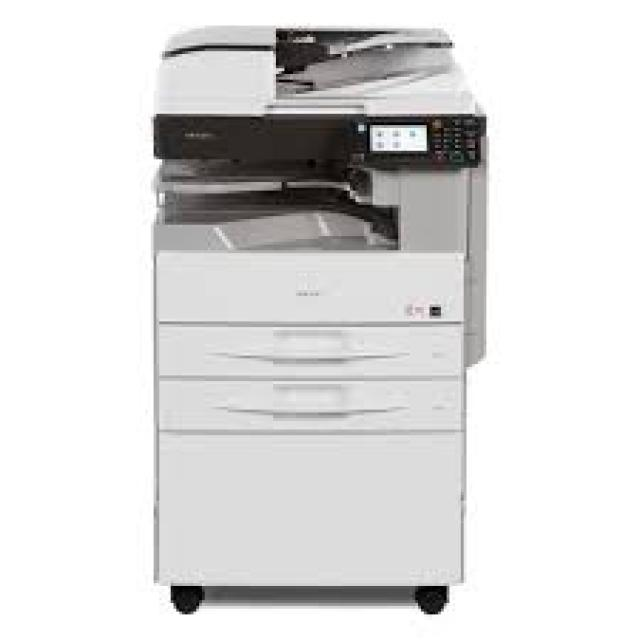printer: (148, 23, 489, 614)
